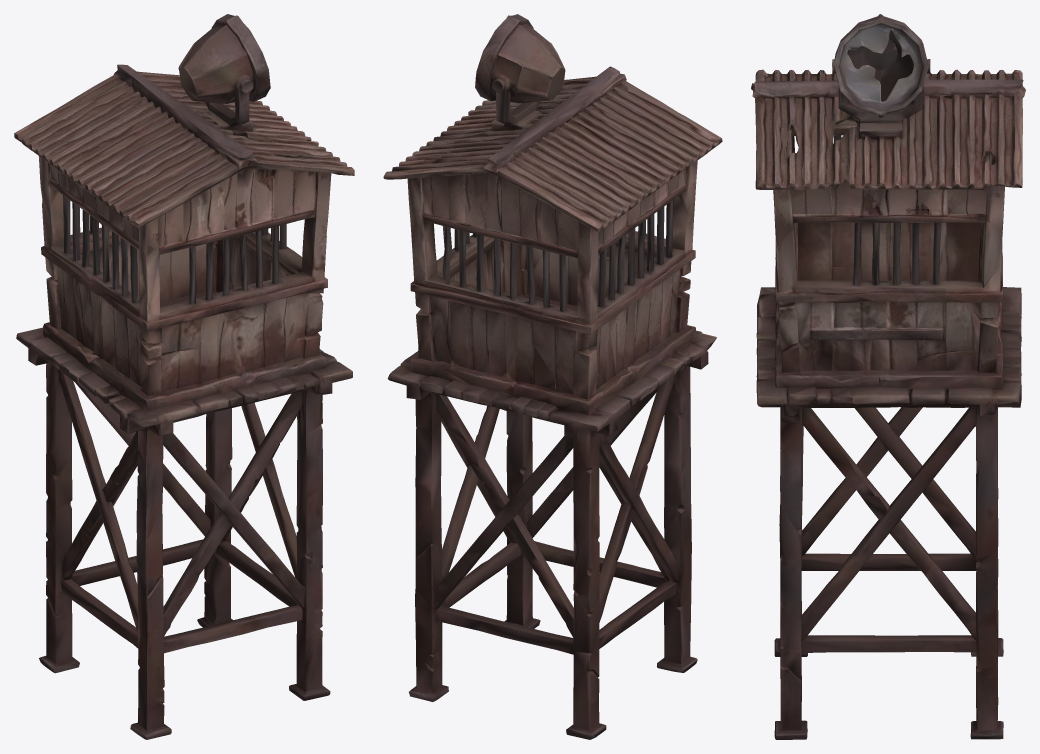
File: prison_watchtower_c_idle.glb
3 views of the same model, side by side, from view 1: azimuth 30°, elevation 25°; view 2: azimuth 150°, elevation 25°; view 3: azimuth 270°, elevation 25° (orthographic). The views are drawn at different scales.
Parts seen in each view (by area): view 1: tripo_node_735038c4-08b2-4e1e-8a13-a8080c501dea; view 2: tripo_node_735038c4-08b2-4e1e-8a13-a8080c501dea; view 3: tripo_node_735038c4-08b2-4e1e-8a13-a8080c501dea.
Part boxes in pixels (x1,y1,x2,y2): tripo_node_735038c4-08b2-4e1e-8a13-a8080c501dea: [14, 14, 354, 739]; tripo_node_735038c4-08b2-4e1e-8a13-a8080c501dea: [383, 14, 722, 739]; tripo_node_735038c4-08b2-4e1e-8a13-a8080c501dea: [751, 14, 1025, 739].
Size of the model in its own units: 3.14 by 9 by 3.2.
1 material, 1 textured.
